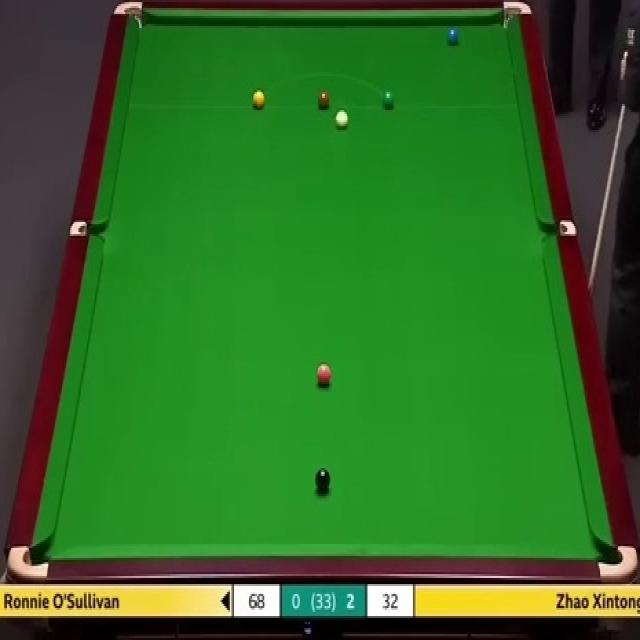black-ball: (315, 467, 331, 493)
blue-ball: (447, 27, 459, 43)
brown-ball: (317, 92, 330, 109)
green-ball: (382, 88, 396, 112)
pink-ball: (316, 362, 332, 389)
white-ball: (334, 110, 350, 130)
yellow-ball: (252, 89, 266, 110)
